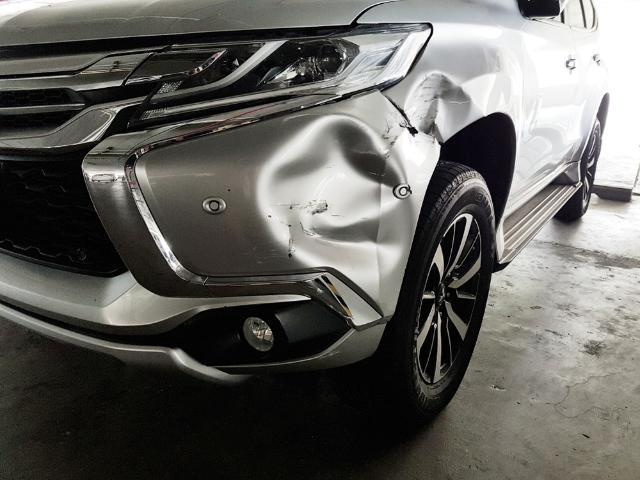dent: (258, 113, 411, 275), (409, 72, 514, 139)
scratch: (378, 109, 407, 153)
